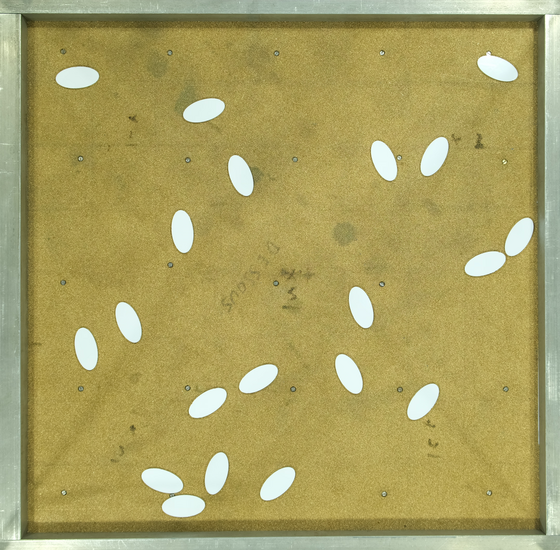pallet: (158, 204, 206, 257), (326, 346, 374, 399), (458, 242, 506, 295), (499, 210, 547, 263), (337, 280, 385, 333), (63, 322, 111, 375), (107, 291, 155, 344), (478, 41, 526, 94), (410, 128, 458, 181), (363, 131, 411, 184), (216, 146, 264, 199), (178, 80, 226, 133), (53, 51, 101, 104), (139, 446, 187, 499), (197, 445, 245, 498), (253, 455, 301, 508), (236, 350, 284, 403), (186, 374, 234, 427), (402, 375, 450, 428), (160, 487, 210, 528)
